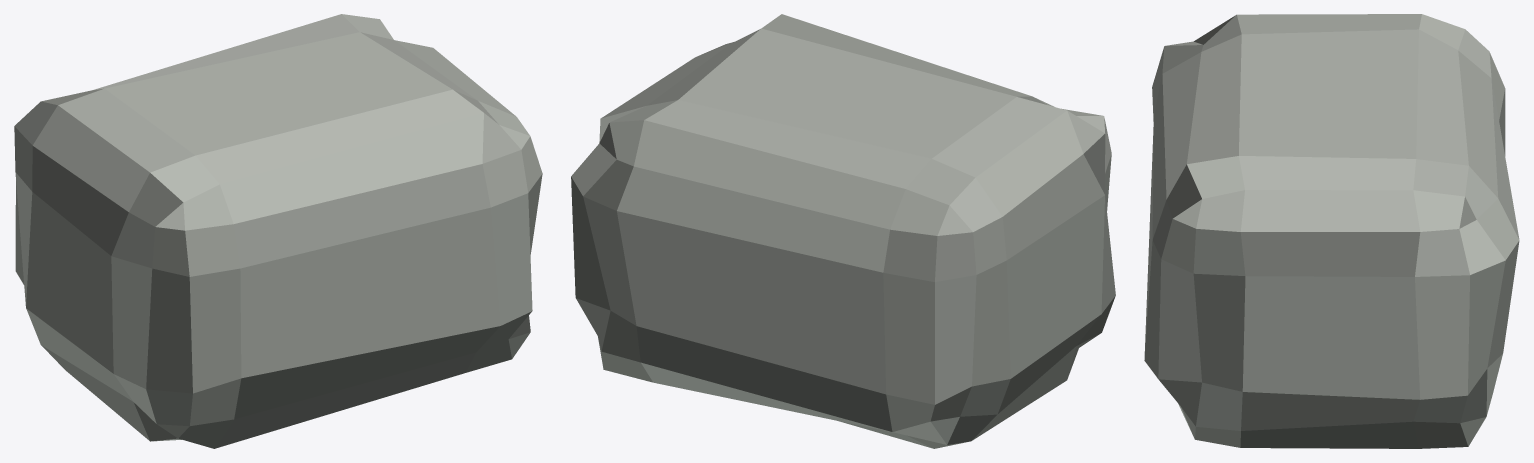
The model's file is rock-37.glb.
3 renders of one model, left to right at view 1: azimuth 30°, elevation 25°; view 2: azimuth 150°, elevation 25°; view 3: azimuth 270°, elevation 25°, orthographic.
Parts seen in each view (by area): view 1: weathered rock; view 2: weathered rock; view 3: weathered rock.
Part boxes in pixels (x1,y1,x2,y2): weathered rock: (14, 14, 542, 448); weathered rock: (571, 14, 1115, 448); weathered rock: (1144, 14, 1519, 448).
Size of the model in its own units: 2.05 by 1.34 by 1.56.
1 material, 1 textured.
